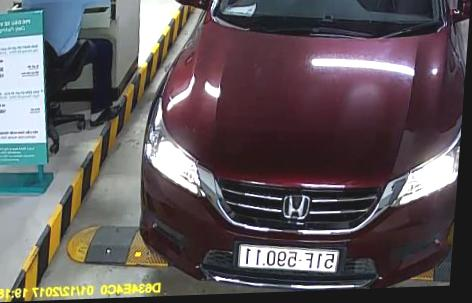License_Plate: (234, 241, 344, 280)
